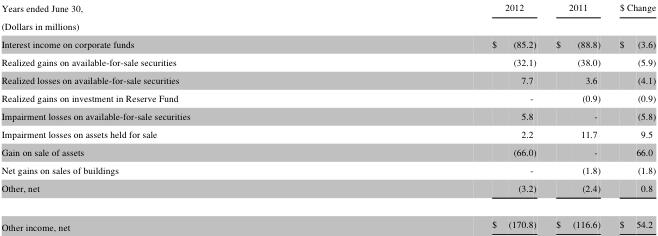table: (0, 0, 655, 232)
table column: (0, 0, 340, 232), (340, 0, 545, 232), (545, 0, 609, 232), (609, 0, 655, 232)
table column header: (0, 0, 655, 16)
table projected row header: (0, 16, 655, 34)
table row: (0, 178, 655, 205), (0, 205, 655, 232), (0, 16, 655, 34), (0, 34, 655, 52), (0, 52, 655, 70), (0, 70, 655, 88), (0, 88, 655, 106), (0, 106, 655, 124), (0, 124, 655, 142), (0, 142, 655, 160), (0, 160, 655, 178), (0, 0, 655, 16)
